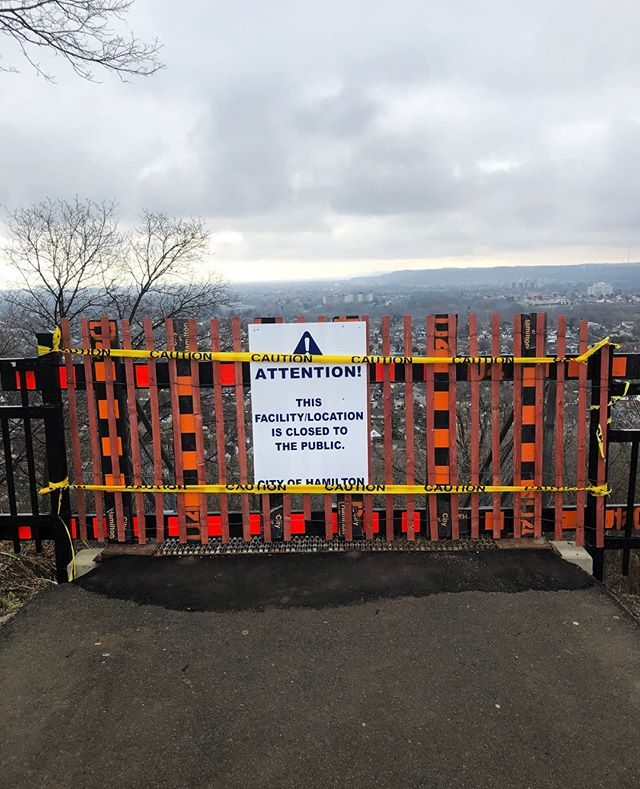sign: (237, 320, 376, 498)
sky: (1, 1, 622, 256)
street: (12, 547, 619, 783)
tree: (1, 204, 228, 357), (1, 1, 171, 108)
